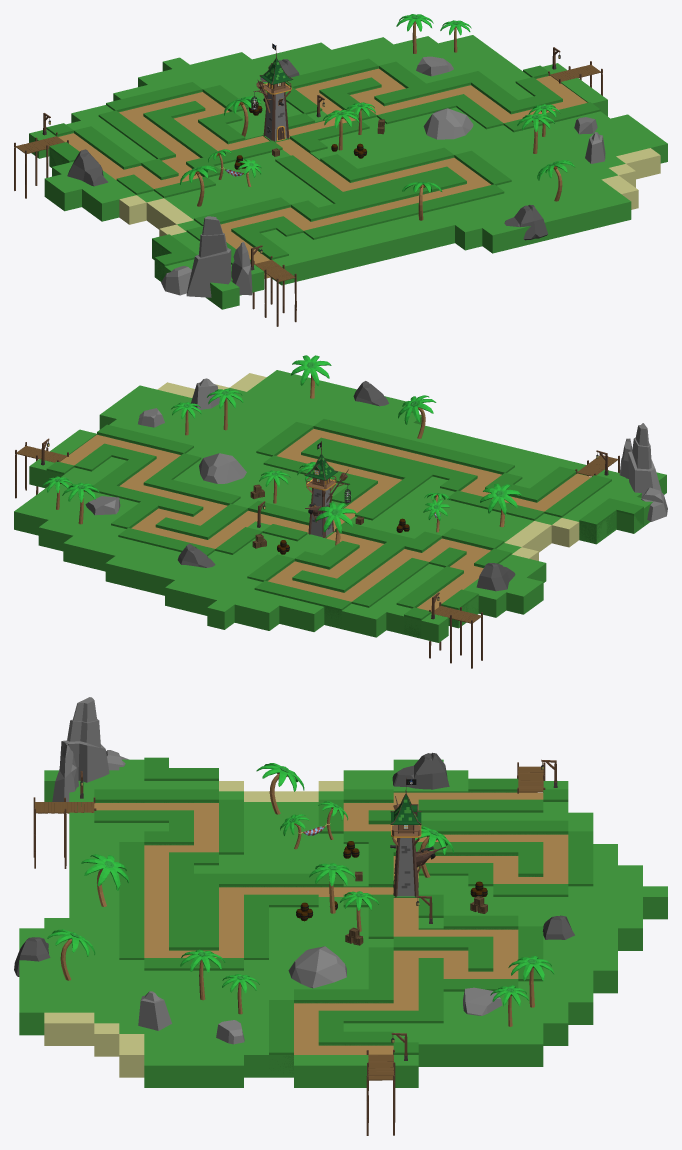
Rendered from small island 1mer.fbx.
The picture shows the model from 3 angles, top to bottom: view 1: azimuth 30°, elevation 25°; view 2: azimuth 150°, elevation 25°; view 3: azimuth 270°, elevation 25°; orthographic projection. The views are drawn at different scales.
Parts seen in each view (by area): view 1: Rock.009, Palm Tree.001, Tower, Dock.001, Dock.002, Grass.363, Grass.441, Grass.007, Grass.442, Lampost, Sand.004, Dock (+15 smaller); view 2: Rock.009, Palm Tree.001, Tower, Dock.002, Lampost, Dock, Sand.003, Grass.015, Grass.207, Grass.147, Grass.202, Grass.205 (+19 smaller); view 3: Rock.009, Palm Tree.001, Tower, Lampost, Dock, Dock.001, Dock.002, Sand.006, Sand.008, Grass.256, Grass.323, Grass.457 (+19 smaller).
Part boxes in pixels (box(x1,y1,x2,y2)): Rock.009: box(67, 56, 605, 297); Palm Tree.001: box(180, 14, 574, 220); Tower: box(251, 43, 293, 141); Dock.001: box(250, 245, 296, 326); Dock.002: box(14, 113, 68, 198); Grass.363: box(92, 192, 119, 221); Grass.441: box(455, 221, 482, 250); Grass.007: box(54, 181, 81, 211); Grass.442: box(482, 224, 509, 253); Lampost: box(234, 95, 384, 169); Sand.004: box(119, 195, 146, 224); Dock: box(548, 47, 602, 95); Rock.009: box(85, 378, 667, 591); Palm Tree.001: box(42, 355, 521, 545); Tower: box(304, 441, 350, 538); Dock.002: box(429, 592, 482, 668); Lampost: box(250, 484, 409, 554); Dock: box(15, 438, 68, 498); Sand.003: box(551, 518, 579, 547); Grass.015: box(506, 585, 533, 614); Grass.207: box(207, 600, 234, 629); Grass.147: box(359, 608, 386, 637); Grass.202: box(252, 601, 279, 630); Grass.205: box(297, 602, 324, 631); Rock.009: box(14, 697, 574, 1044); Palm Tree.001: box(47, 763, 554, 1026); Tower: box(390, 777, 445, 897); Lampost: box(296, 841, 487, 945); Dock: box(366, 1033, 407, 1135); Dock.001: box(33, 771, 96, 868); Dock.002: box(517, 759, 557, 793); Sand.006: box(94, 1023, 119, 1056); Sand.008: box(119, 1044, 144, 1077); Grass.256: box(568, 991, 593, 1024); Grass.323: box(543, 1012, 568, 1045); Grass.457: box(19, 1002, 44, 1035).
Size of what is drawn, in the model's own units: 3105 by 750 by 2622.
